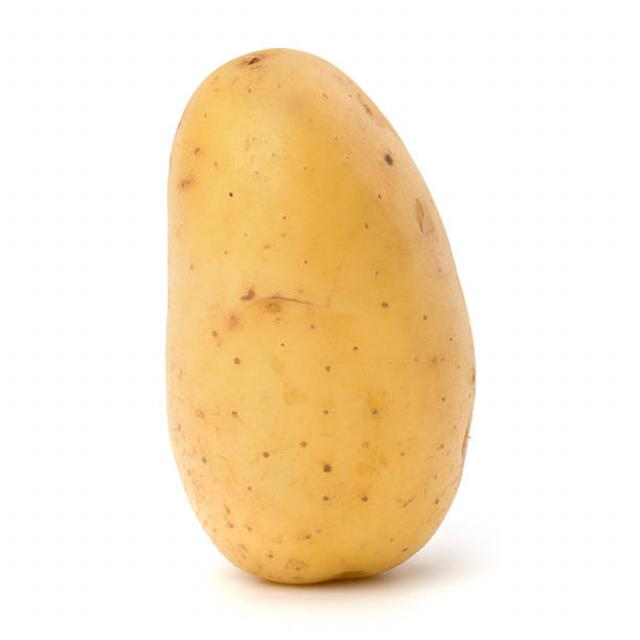potato: (162, 45, 480, 589)
